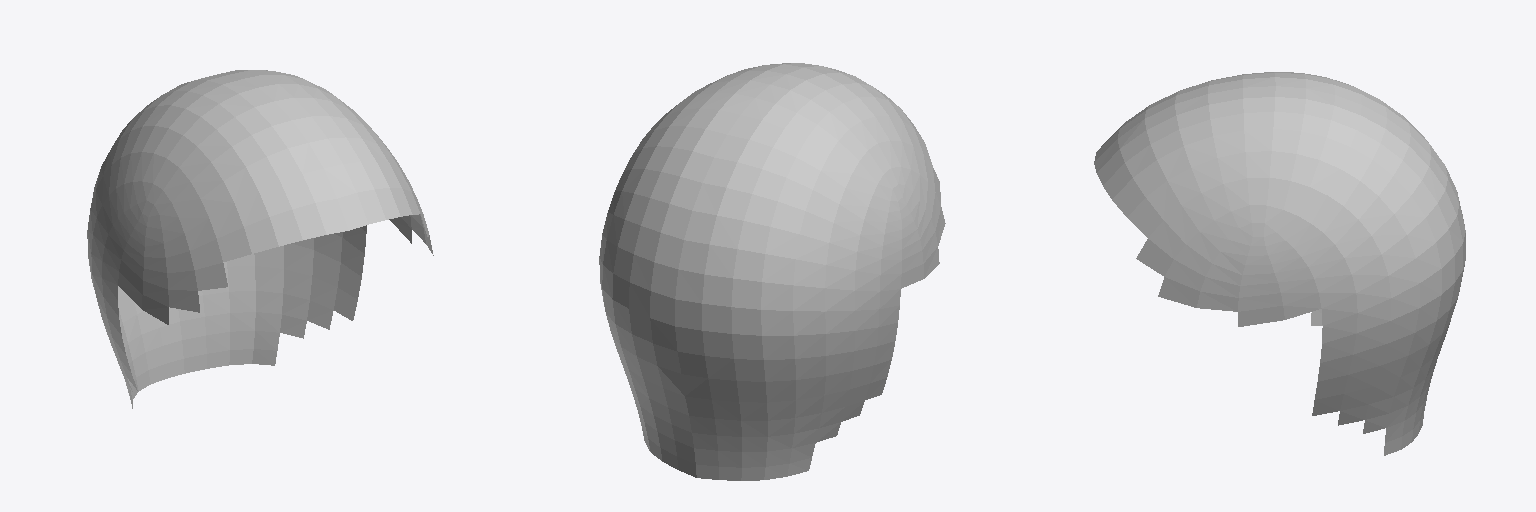
File: mannequin_segment.obj
The picture shows the model from 3 angles: view 1: azimuth 30°, elevation 25°; view 2: azimuth 150°, elevation 25°; view 3: azimuth 270°, elevation 25°; orthographic projection.
Visible parts, largest first — view 1: Solid_Wood_Female_Mannequin_Head_convert:Solid_Wood_Female_Manne; view 2: Solid_Wood_Female_Mannequin_Head_convert:Solid_Wood_Female_Manne; view 3: Solid_Wood_Female_Mannequin_Head_convert:Solid_Wood_Female_Manne.
Part boxes in pixels (bbox=[...]): Solid_Wood_Female_Mannequin_Head_convert:Solid_Wood_Female_Manne: bbox=[87, 70, 433, 408]; Solid_Wood_Female_Mannequin_Head_convert:Solid_Wood_Female_Manne: bbox=[599, 63, 945, 480]; Solid_Wood_Female_Mannequin_Head_convert:Solid_Wood_Female_Manne: bbox=[1094, 72, 1465, 455].
Size of the model in its own units: 1.55 by 1.86 by 1.84.